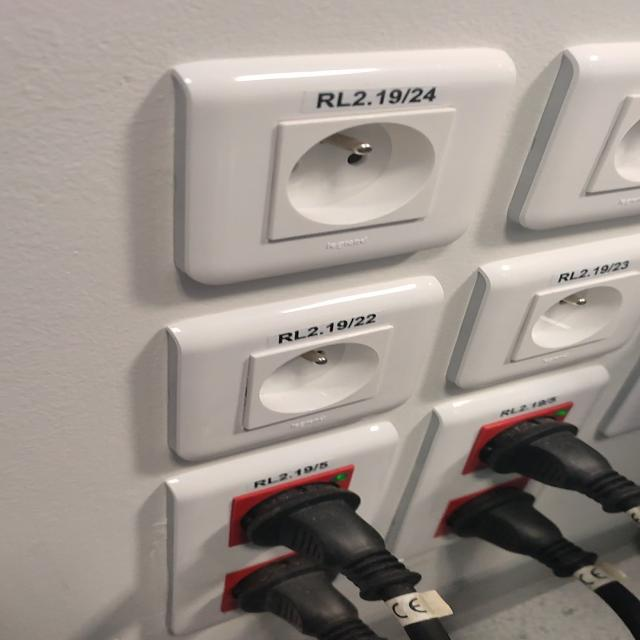house plug: (264, 109, 459, 243), (240, 326, 397, 428), (504, 271, 640, 364)
